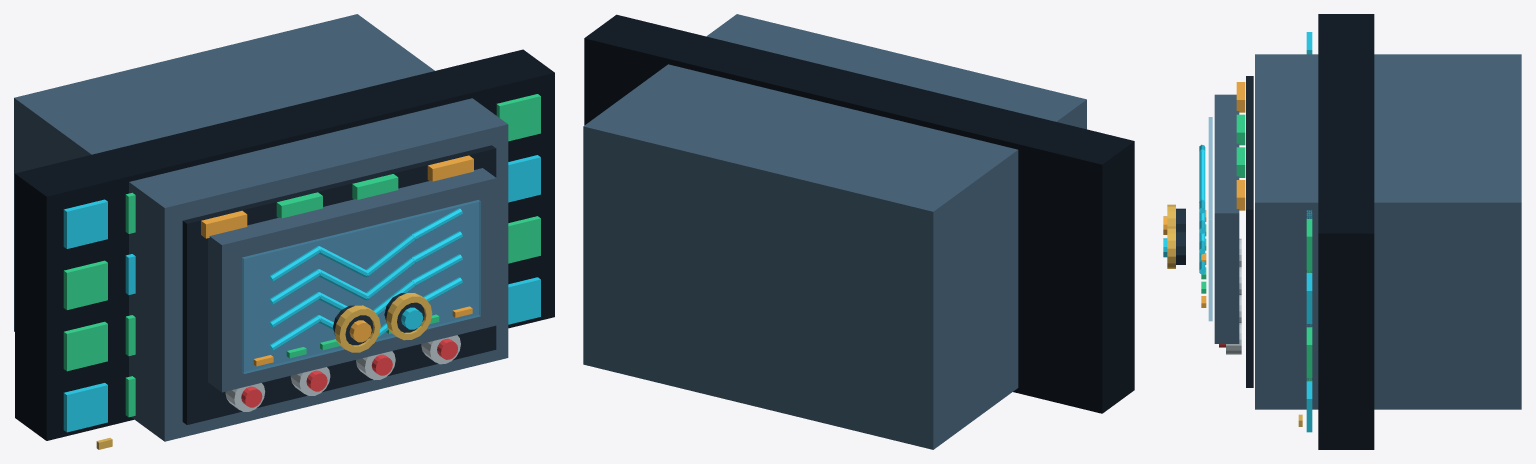
The model's file is 21_L81_DoubleBitErrorAlarmAnalyzer.fbx.
3 views of the same model, side by side, from view 1: azimuth 30°, elevation 25°; view 2: azimuth 150°, elevation 25°; view 3: azimuth 270°, elevation 25° (orthographic). The views are drawn at different scales.
Parts seen in each view (by area): view 1: DoubleBitErrorAlarmAnalyzer, DoubleBitErrorAlarmAnalyzer_Part_0051, DoubleBitErrorAlarmAnalyzer_Part_0076, DoubleBitErrorAlarmAnalyzer_Part_0052, DoubleBitErrorAlarmAnalyzer_Part_0068, DoubleBitErrorAlarmAnalyzer_Part_0060, DoubleBitErrorAlarmAnalyzer_Part_0083, DoubleBitErrorAlarmAnalyzer_Part_0067, DoubleBitErrorAlarmAnalyzer_Part_0059, DoubleBitErrorAlarmAnalyzer_Part_0075; view 2: DoubleBitErrorAlarmAnalyzer, DoubleBitErrorAlarmAnalyzer_Part_0051; view 3: DoubleBitErrorAlarmAnalyzer, DoubleBitErrorAlarmAnalyzer_Part_0051, DoubleBitErrorAlarmAnalyzer_Part_0059.
Part boxes in pixels (bbox=[...]): DoubleBitErrorAlarmAnalyzer: bbox=[14, 14, 508, 441]; DoubleBitErrorAlarmAnalyzer_Part_0051: bbox=[15, 49, 554, 440]; DoubleBitErrorAlarmAnalyzer_Part_0076: bbox=[63, 199, 107, 248]; DoubleBitErrorAlarmAnalyzer_Part_0052: bbox=[63, 383, 107, 432]; DoubleBitErrorAlarmAnalyzer_Part_0068: bbox=[63, 260, 107, 309]; DoubleBitErrorAlarmAnalyzer_Part_0060: bbox=[63, 321, 107, 371]; DoubleBitErrorAlarmAnalyzer_Part_0083: bbox=[496, 94, 540, 141]; DoubleBitErrorAlarmAnalyzer_Part_0067: bbox=[508, 216, 540, 263]; DoubleBitErrorAlarmAnalyzer_Part_0059: bbox=[508, 277, 540, 324]; DoubleBitErrorAlarmAnalyzer_Part_0075: bbox=[508, 155, 540, 202]; DoubleBitErrorAlarmAnalyzer: bbox=[583, 14, 1086, 449]; DoubleBitErrorAlarmAnalyzer_Part_0051: bbox=[584, 14, 1134, 413]; DoubleBitErrorAlarmAnalyzer: bbox=[1163, 54, 1521, 409]; DoubleBitErrorAlarmAnalyzer_Part_0051: bbox=[1318, 14, 1374, 449]; DoubleBitErrorAlarmAnalyzer_Part_0059: bbox=[1306, 381, 1312, 432].
Size of the model in its own units: 148 by 71 by 102.
